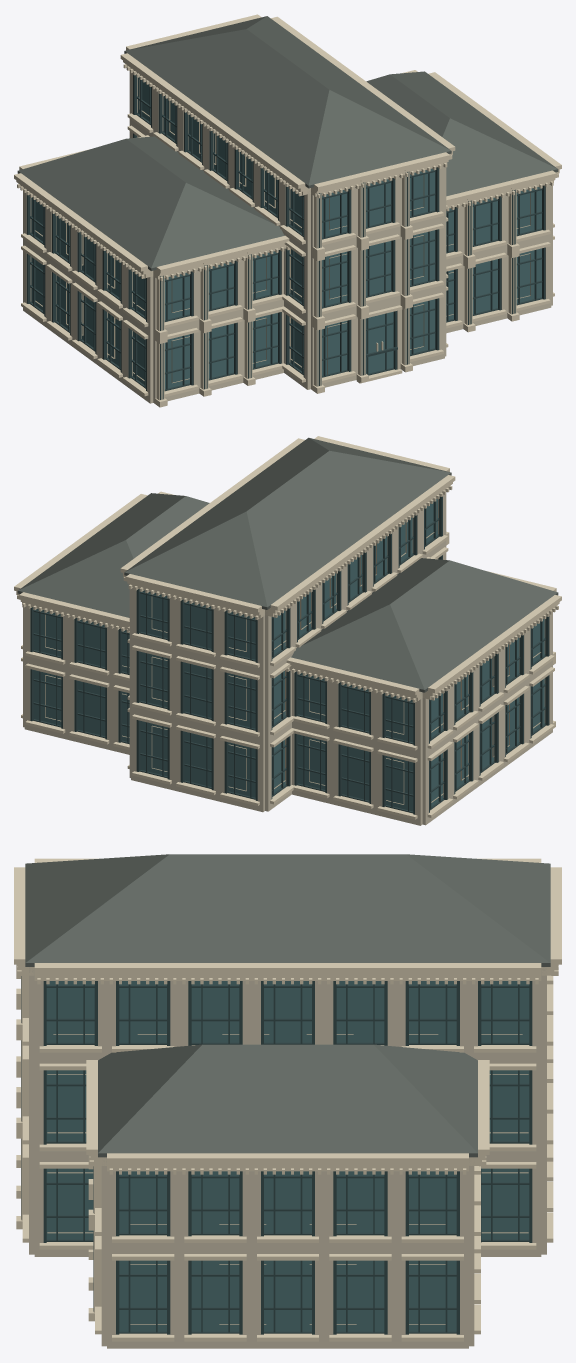
Rendered from classical-museum.glb.
3 views of the same model, one above another, from view 1: azimuth 30°, elevation 25°; view 2: azimuth 150°, elevation 25°; view 3: azimuth 270°, elevation 25° (orthographic). The views are drawn at different scales.
Parts seen in each view (by area): view 1: Roof main.024, Roof left.006, Roof right.006, Foundation.043, main/north/0/5000/glass.012, left/north/0/5000/glass.006, main/north/0/8333/glass.007, left/north/0/1667/glass.006, left/north/0/8333/glass.006, main/north/1/5000/glass.016, right/north/0/8333/glass.006, main/north/1/8333/glass.008 (+108 smaller); view 2: Roof main.024, Roof left.006, Roof right.006, Foundation.043, left/south/0/1667/wall.003, main/south/1/5000/glass.016, right/south/0/5000/glass.003, left/south/0/5000/glass.003, main/south/0/5000/glass.016, right/south/0/8333/glass.003, left/south/0/8333/glass.003, main/south/0/8333/glass.010 (+91 smaller); view 3: Roof main.024, Roof right.006, right/east/0/3000/glass.004, right/east/0/7000/glass.004, main/east/0/714/glass.003, right/east/0/5000/glass.004, right/east/0/1000/glass.004, right/east/0/9000/glass.004, main/east/0/9286/glass.005, right/east/1/3000/glass.004, right/east/1/7000/glass.004, main/east/2/3571/glass.001 (+81 smaller).
Part boxes in pixels (x1=…): Roof main.024: x1=124, y1=16, x2=451, y2=188; Roof left.006: x1=17, y1=136, x2=284, y2=270; Roof right.006: x1=366, y1=71, x2=558, y2=196; Foundation.043: x1=35, y1=80, x2=530, y2=383; main/north/0/5000/glass.012: x1=366, y1=311, x2=393, y2=373; left/north/0/5000/glass.006: x1=208, y1=323, x2=233, y2=378; main/north/0/8333/glass.007: x1=410, y1=299, x2=435, y2=354; left/north/0/1667/glass.006: x1=164, y1=334, x2=189, y2=389; left/north/0/8333/glass.006: x1=252, y1=313, x2=277, y2=367; main/north/1/5000/glass.016: x1=366, y1=241, x2=391, y2=295; right/north/0/8333/glass.006: x1=516, y1=248, x2=541, y2=303; main/north/1/8333/glass.008: x1=410, y1=230, x2=435, y2=284; Roof main.024: x1=124, y1=437, x2=451, y2=609; Roof left.006: x1=291, y1=558, x2=558, y2=692; Roof right.006: x1=17, y1=493, x2=209, y2=617; Foundation.043: x1=45, y1=501, x2=540, y2=804; left/south/0/1667/wall.003: x1=376, y1=746, x2=422, y2=825; main/south/1/5000/glass.016: x1=184, y1=662, x2=211, y2=717; right/south/0/5000/glass.003: x1=78, y1=681, x2=105, y2=736; left/south/0/5000/glass.003: x1=342, y1=745, x2=369, y2=800; main/south/0/5000/glass.016: x1=184, y1=731, x2=211, y2=786; right/south/0/8333/glass.003: x1=34, y1=670, x2=61, y2=725; left/south/0/8333/glass.003: x1=298, y1=734, x2=325, y2=789; main/south/0/8333/glass.010: x1=140, y1=721, x2=167, y2=776; Roof main.024: x1=25, y1=854, x2=550, y2=966; Roof right.006: x1=98, y1=1044, x2=477, y2=1157; right/east/0/3000/glass.004: x1=336, y1=1260, x2=384, y2=1331; right/east/0/7000/glass.004: x1=191, y1=1260, x2=239, y2=1331; main/east/0/714/glass.003: x1=481, y1=1168, x2=529, y2=1239; right/east/0/5000/glass.004: x1=264, y1=1260, x2=311, y2=1331; right/east/0/1000/glass.004: x1=409, y1=1260, x2=456, y2=1331; right/east/0/9000/glass.004: x1=119, y1=1260, x2=166, y2=1331; main/east/0/9286/glass.005: x1=46, y1=1168, x2=93, y2=1239; right/east/1/3000/glass.004: x1=336, y1=1171, x2=384, y2=1232; right/east/1/7000/glass.004: x1=191, y1=1171, x2=239, y2=1232; main/east/2/3571/glass.001: x1=336, y1=981, x2=384, y2=1042.
Bounding box in the file's own units: 19.13 × 10.9 × 15.13.
